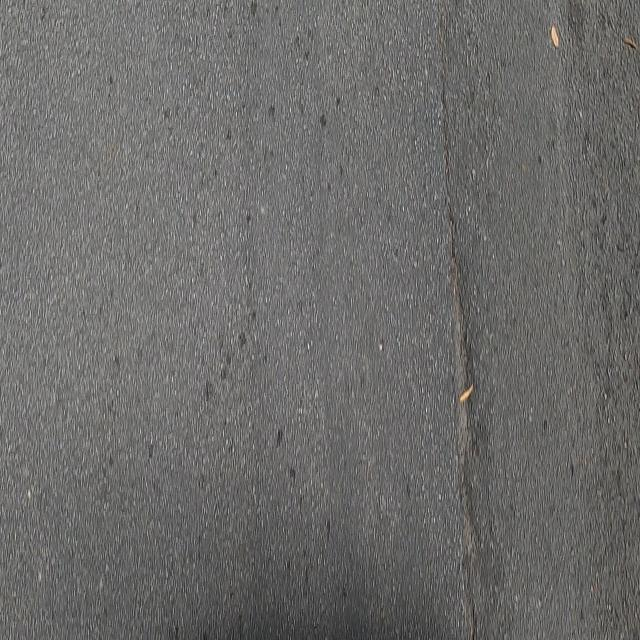Retak-Memanjang: (437, 74, 479, 547)
